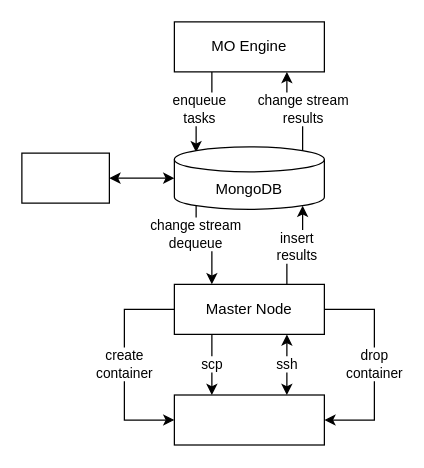
Image size: 424x468. Some labels were removed from this diagram. Each missing label, with the centre of its shape:
"REST API" belongs at pixel 65 177.
"Worker" belongs at pixel 248 419.
